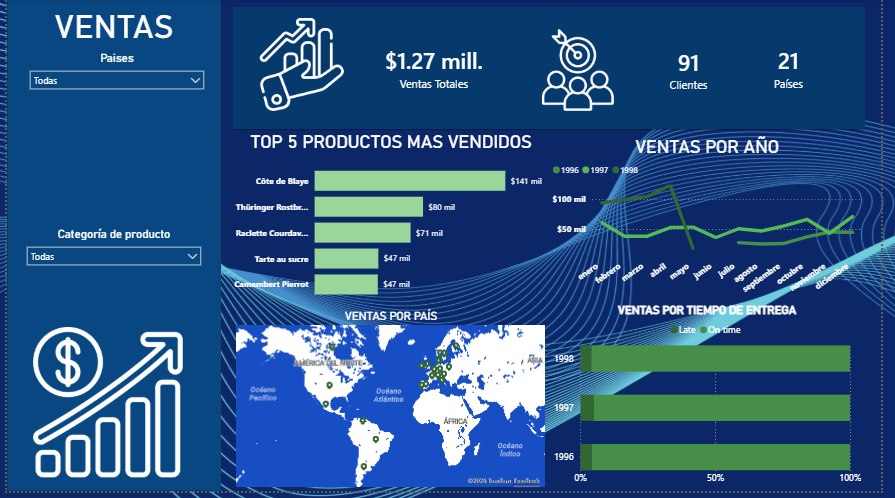

The page's visual inventory and layout, read from the dashboard file:
{"tool":"powerbi","page":{"name":"General","canvas":[1280,720],"ordinal":0},"visuals":[{"type":"barChart","title":"TOP 5 PRODUCTOS MAS VENDIDOS ","fields":{"Category":["Products.ProductName"],"Y":["Sum(Order_Details.Total Price )"]},"box":[313.2,193.2,497.6,260.5],"z":0},{"type":"lineChart","title":"VENTAS POR AÑO","fields":{"Category":["Orders.OrderDate.Variación.Jerarquía de fechas.Mes"],"Series":["Orders.OrderDate.Variación.Jerarquía de fechas.Año"],"Y":["Sum(Order_Details.Total Price )"]},"box":[793.2,200.5,462.4,244.4],"z":1000},{"type":"shape","box":[330.7,11.7,924.9,178.5],"z":2000},{"type":"cardVisual","fields":{"Data":["Sum(Order_Details.Total Price )"]},"box":[509.3,11.7,231.2,178.5],"z":3000},{"type":"cardVisual","fields":{"Data":["Count(Orders.ShipCountry)"]},"box":[1080,11.7,127.3,178.5],"z":4000},{"type":"shape","box":[0,0,313.2,720],"z":5000},{"type":"textbox","title":"VENTAS","box":[14.6,11.7,283.9,64.4],"z":6000},{"type":"slicer","title":"Paises","fields":{"Values":["Orders.ShipCountry"]},"box":[23.4,76.1,275.1,87.8],"z":7000},{"type":"image","box":[765.4,43.9,139,120],"z":8000},{"type":"cardVisual","fields":{"Data":["Customers.Total Clientes Únicos"]},"box":[927.8,11.7,139,181.5],"z":9000},{"type":"image","box":[352.7,27.8,169.8,136.1],"z":10000},{"type":"hundredPercentStackedBarChart","title":"VENTAS POR TIEMPO DE ENTREGA","fields":{"Category":["Orders.ShippedDate.Variación.Jerarquía de fechas.Año"],"Y":["CountNonNull(Orders.Intento1)"],"Series":["Orders.Intento1"]},"box":[793.2,444.9,462.4,275.1],"z":11000},{"type":"azureMap","title":"VENTAS POR PAÍS","fields":{"Category":["Orders.ShipCountry","Order_Details.Total Price "]},"box":[330.7,453.7,462.4,266.3],"z":12000},{"type":"slicer","title":"Categoría de producto","fields":{"Values":["Categories.CategoryName"]},"box":[19,333.7,275.1,120],"z":13000},{"type":"image","box":[32.2,480,231.2,219.5],"z":14000}]}

Visuals, with their boxes in screenshot pixels (x1, y1, x2, y2), scaled from the page's 1280x720 canvas onto the 895x498 screenshot:
"TOP 5 PRODUCTOS MAS VENDIDOS " barChart: 219, 134, 567, 314
"VENTAS POR AÑO" lineChart: 555, 139, 878, 308
shape: 231, 8, 878, 132
cardVisual - Sum(Order_Details.Total Price ): 356, 8, 518, 132
cardVisual - Count(Orders.ShipCountry): 755, 8, 844, 132
shape: 0, 0, 219, 497
"VENTAS" textbox: 10, 8, 209, 53
"Paises" slicer: 16, 53, 209, 113
image: 535, 30, 632, 113
cardVisual - Customers.Total Clientes Únicos: 649, 8, 746, 134
image: 247, 19, 365, 113
"VENTAS POR TIEMPO DE ENTREGA" hundredPercentStackedBarChart: 555, 308, 878, 497
"VENTAS POR PAÍS" azureMap: 231, 314, 555, 497
"Categoría de producto" slicer: 13, 231, 206, 314
image: 23, 332, 184, 484
